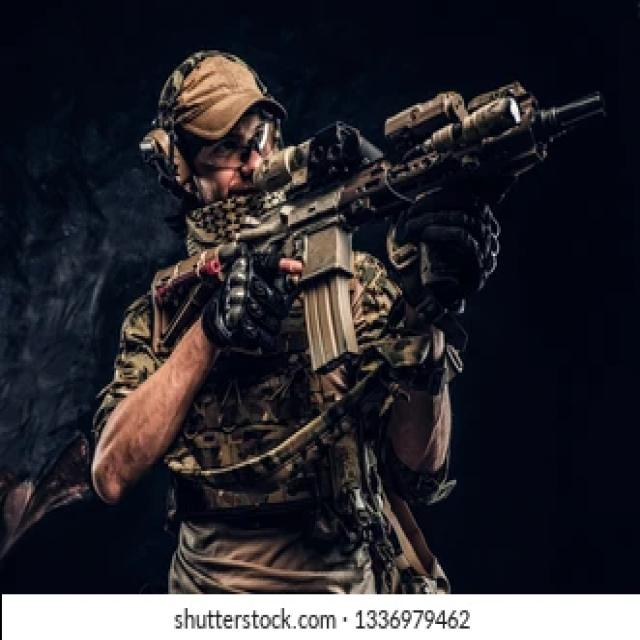soldier: (61, 25, 600, 613)
